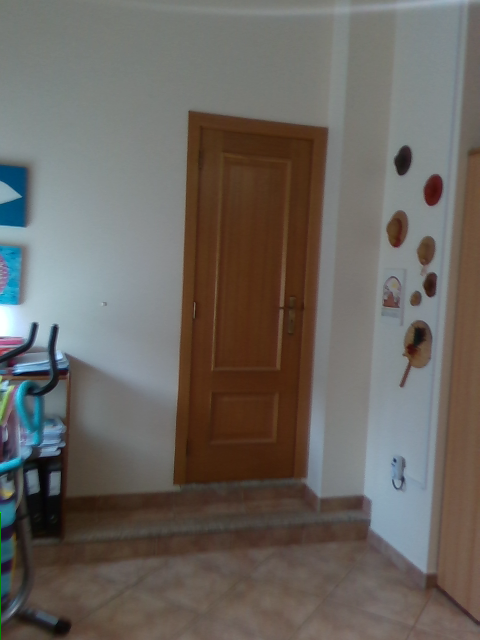closed: (171, 111, 328, 486)
